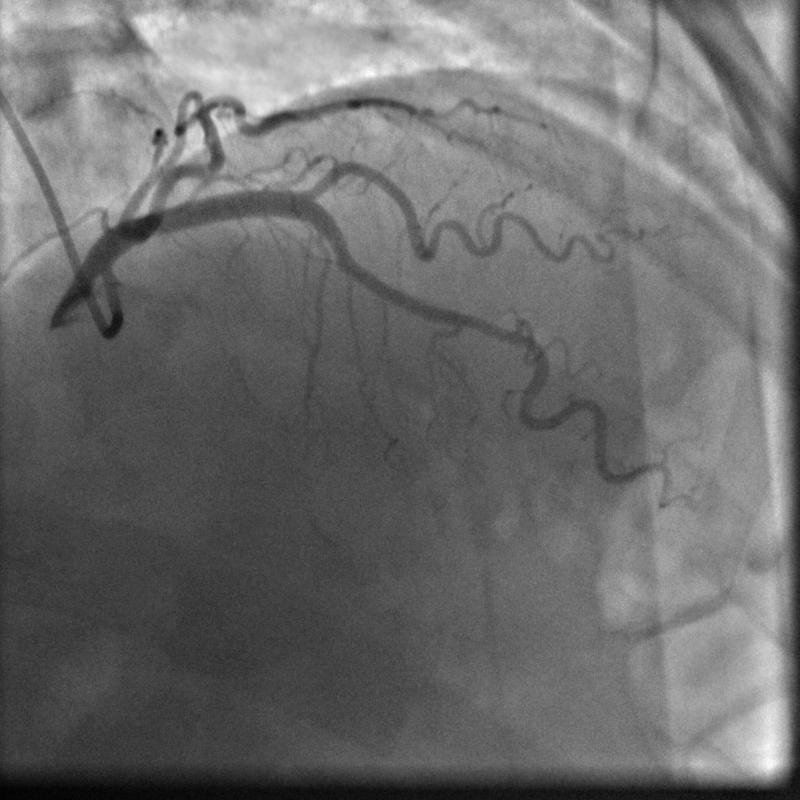Stenosis: (459, 312, 531, 350)
